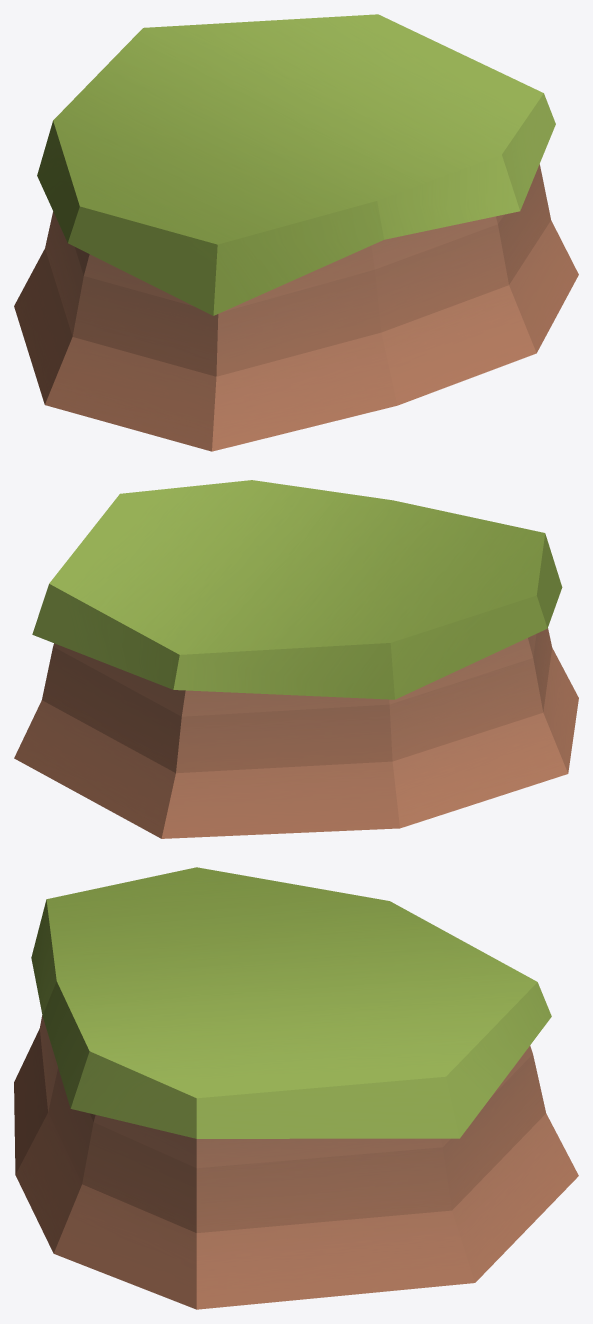
Rendered from cliff3.fbx.
3 renders of one model, top to bottom at view 1: azimuth 30°, elevation 25°; view 2: azimuth 150°, elevation 25°; view 3: azimuth 270°, elevation 25°, orthographic. The views are drawn at different scales.
Visible parts, largest first — view 1: cliff3; view 2: cliff3; view 3: cliff3.
Boxes of the visible parts, left/top/right/bottom form: cliff3: left=14, top=14, right=578, bottom=451; cliff3: left=14, top=480, right=578, bottom=838; cliff3: left=14, top=867, right=578, bottom=1309.
Size of the model in its own units: 3.21 by 1.09 by 2.89.
